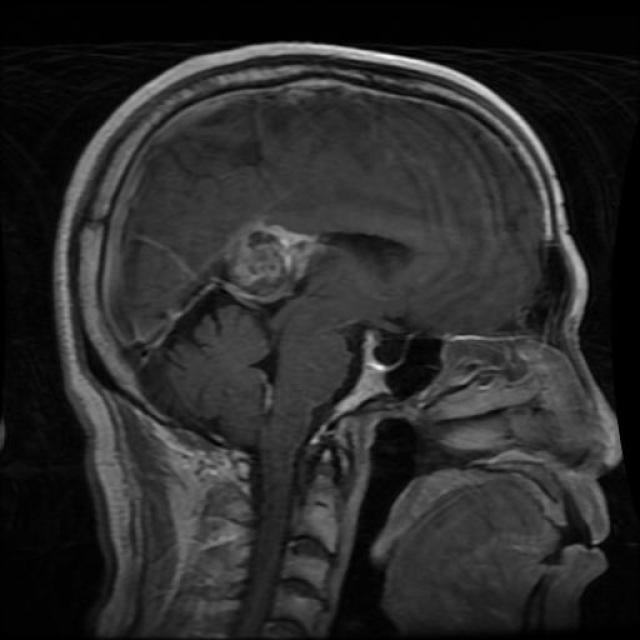glioma: (215, 215, 326, 308)
